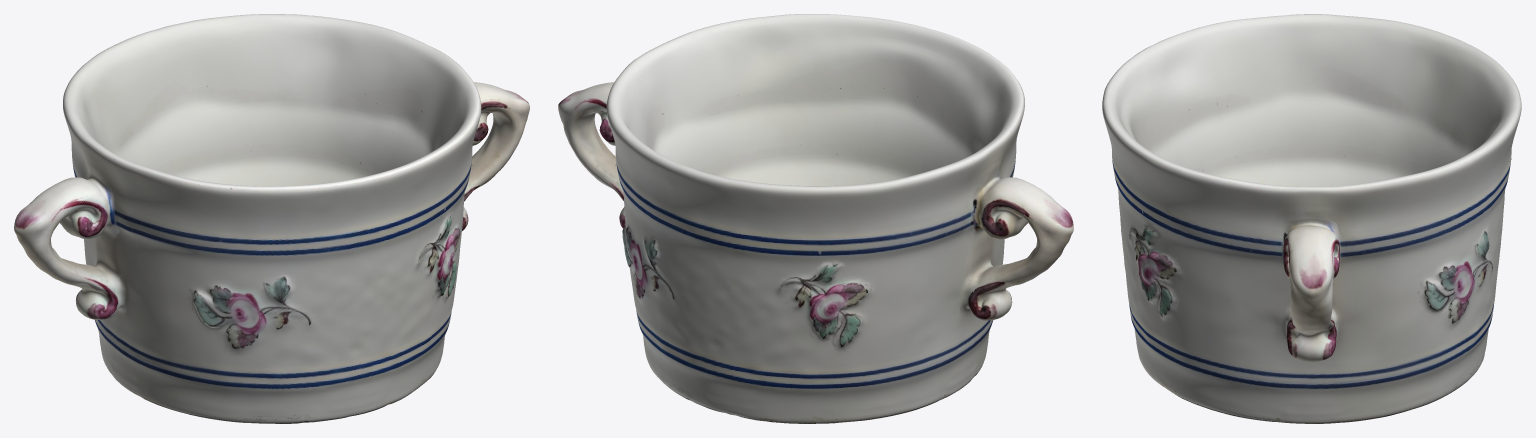
The model's file is porcelain-teacup.glb.
The picture shows the model from 3 angles, left to right: view 1: azimuth 30°, elevation 25°; view 2: azimuth 150°, elevation 25°; view 3: azimuth 270°, elevation 25°; orthographic projection.
Parts seen in each view (by area): view 1: tripo_node_97644fcd-4d6e-43d9-9ffb-1a0c71f83cdf; view 2: tripo_node_97644fcd-4d6e-43d9-9ffb-1a0c71f83cdf; view 3: tripo_node_97644fcd-4d6e-43d9-9ffb-1a0c71f83cdf.
Boxes of the visible parts, left/top/right/bottom form: tripo_node_97644fcd-4d6e-43d9-9ffb-1a0c71f83cdf: left=14, top=14, right=529, bottom=423; tripo_node_97644fcd-4d6e-43d9-9ffb-1a0c71f83cdf: left=558, top=14, right=1073, bottom=423; tripo_node_97644fcd-4d6e-43d9-9ffb-1a0c71f83cdf: left=1102, top=14, right=1521, bottom=423.
Bounding box in the file's own units: 0.9814 × 0.4617 × 0.6928.
Materials: 1 (1 with a texture image).
